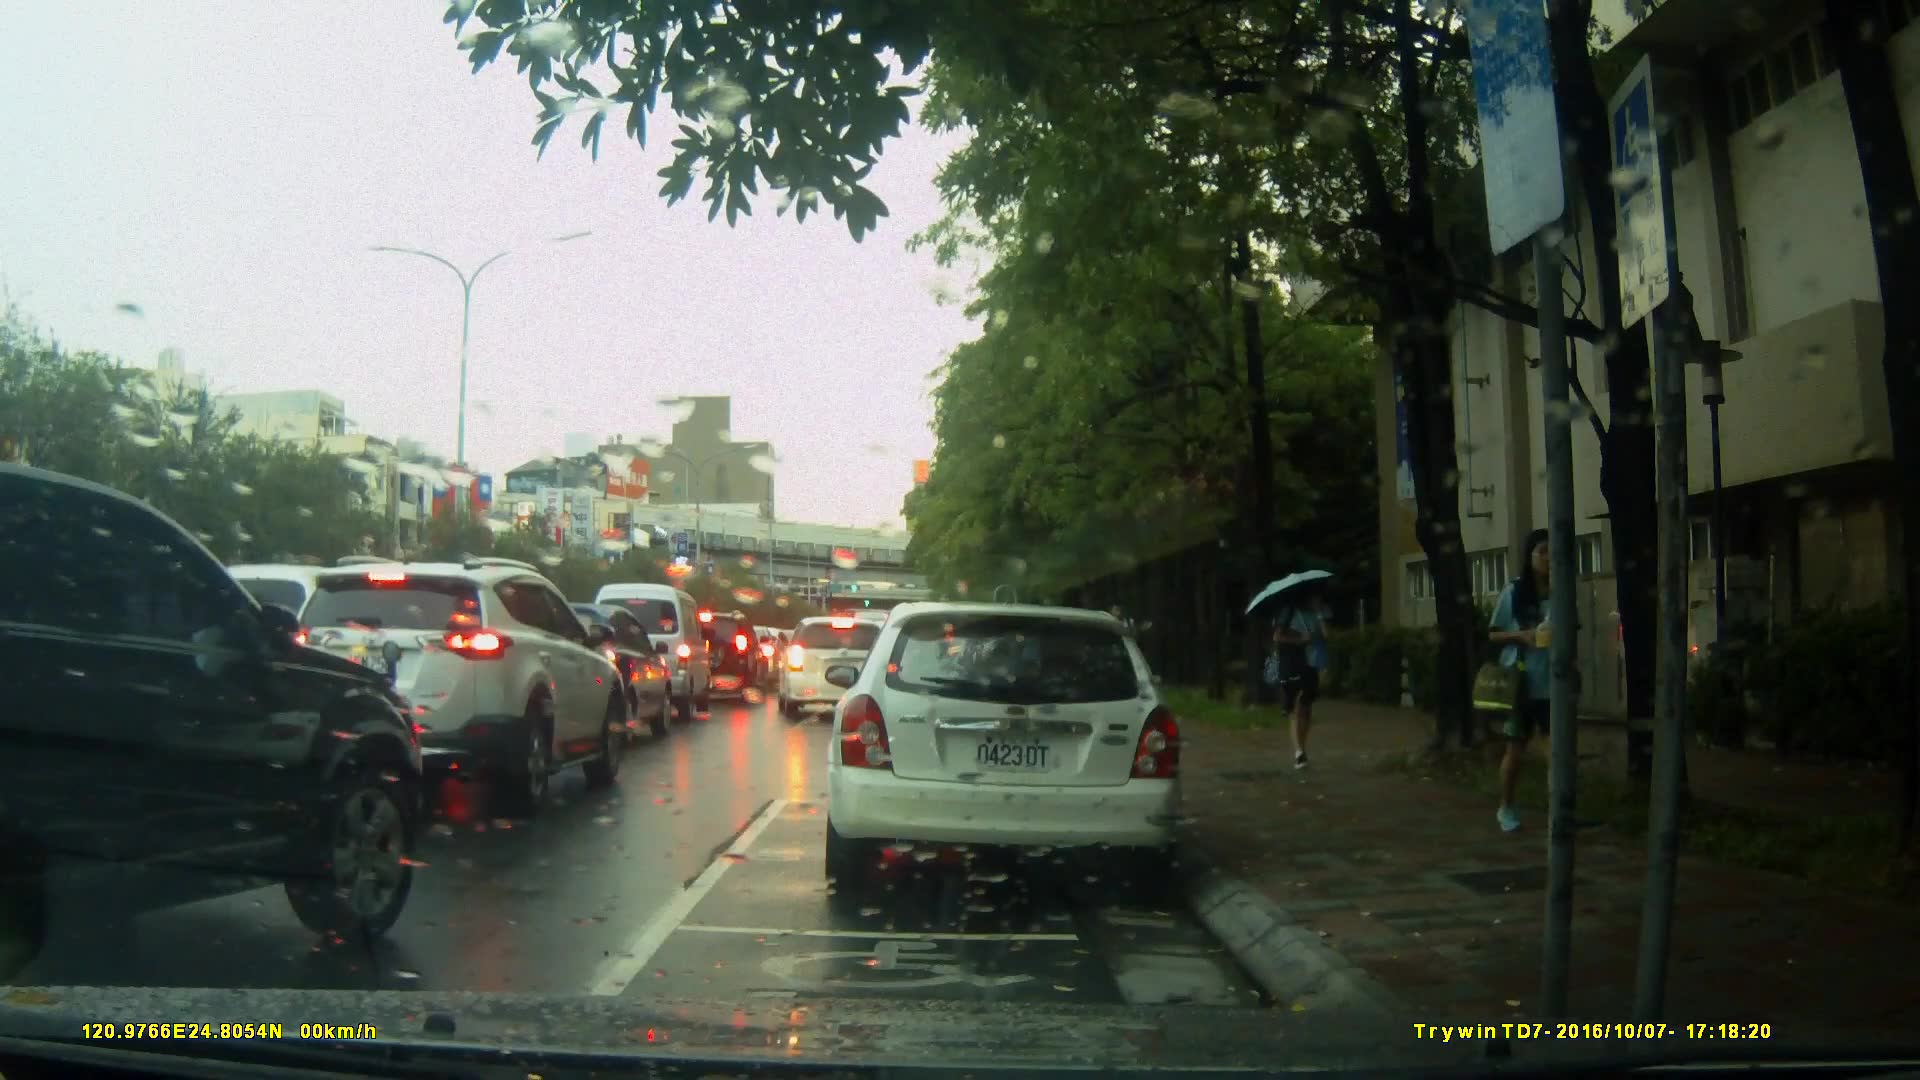pedestrian: (1463, 507, 1582, 849), (1269, 563, 1338, 777), (1108, 594, 1132, 695)
vehicle: (1, 459, 432, 985), (820, 602, 1188, 898), (274, 554, 631, 808), (469, 602, 676, 755), (174, 563, 327, 722), (573, 582, 711, 731), (776, 616, 910, 720), (671, 611, 765, 698)
